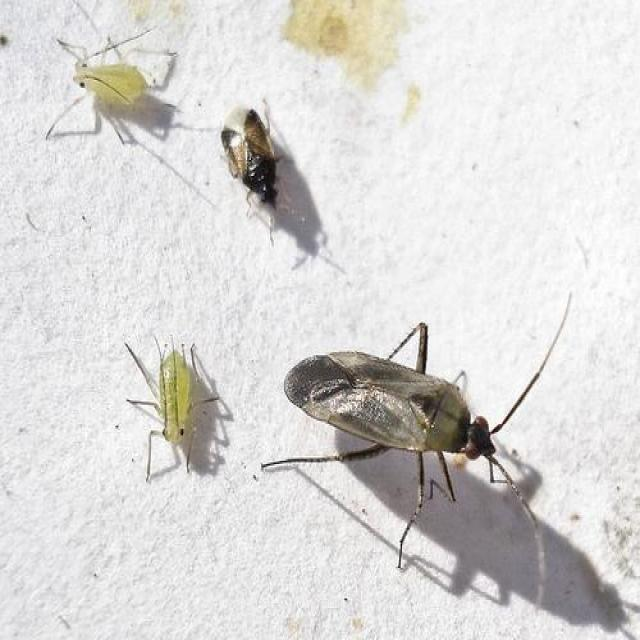Miridae-Adult-: (268, 297, 573, 535), (196, 93, 313, 250)
